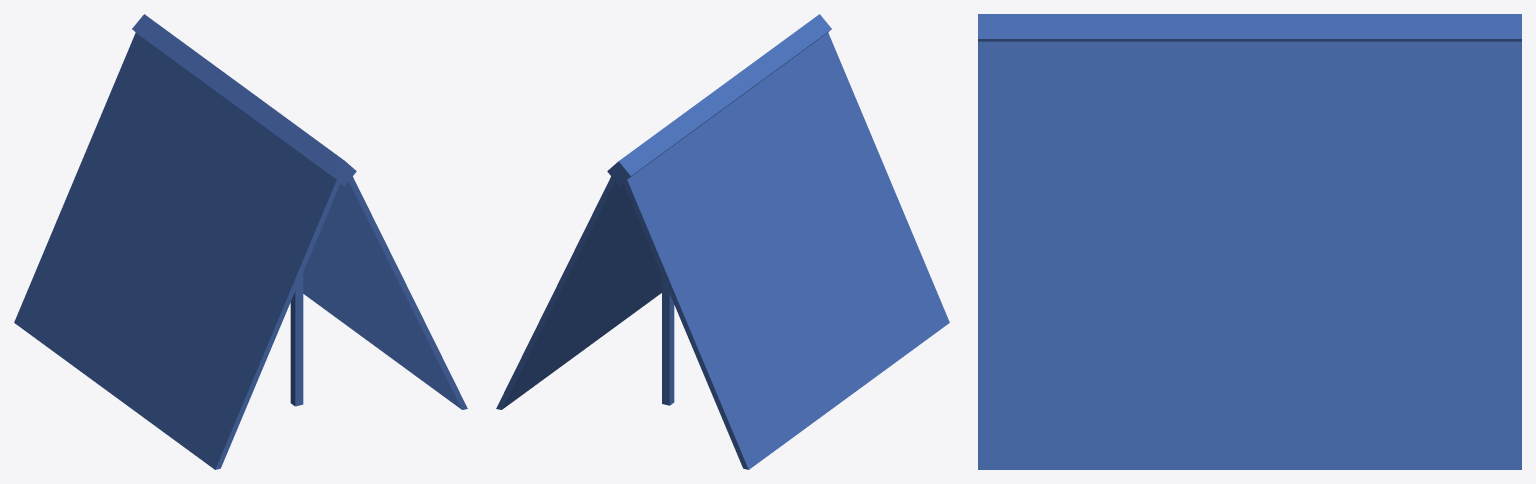
The model's file is Tent.fbx.
3 renders of one model, left to right at view 1: azimuth 30°, elevation 25°; view 2: azimuth 150°, elevation 25°; view 3: azimuth 270°, elevation 25°, orthographic. The views are drawn at different scales.
Visible parts, largest first — view 1: pCube1; view 2: pCube1; view 3: pCube1.
Boxes of the visible parts, x1,y1,x2,y2 form: pCube1: (14, 14, 467, 469); pCube1: (496, 14, 949, 469); pCube1: (978, 14, 1521, 469).
Bounding box in the file's own units: 0.4108 × 0.4311 × 0.5662.
